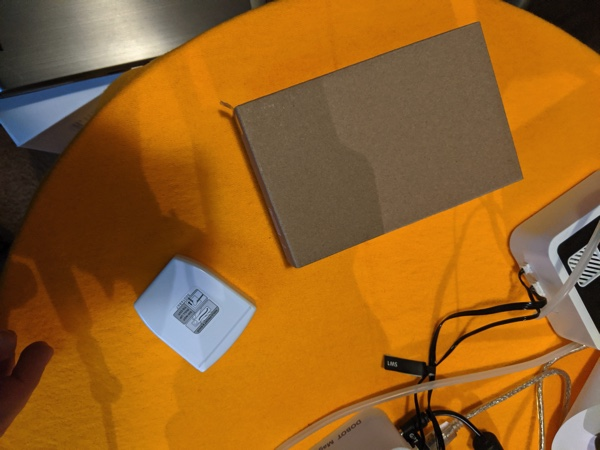cardboard: (220, 13, 537, 275)
plastic: (119, 246, 275, 390)
